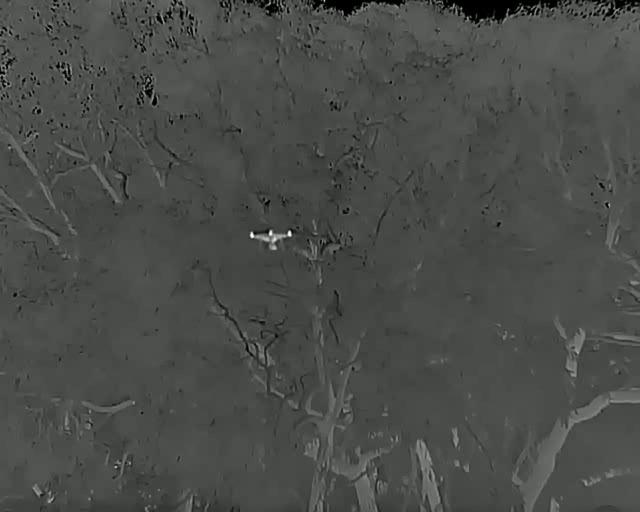DJI-Phantom: (247, 225, 294, 253)
